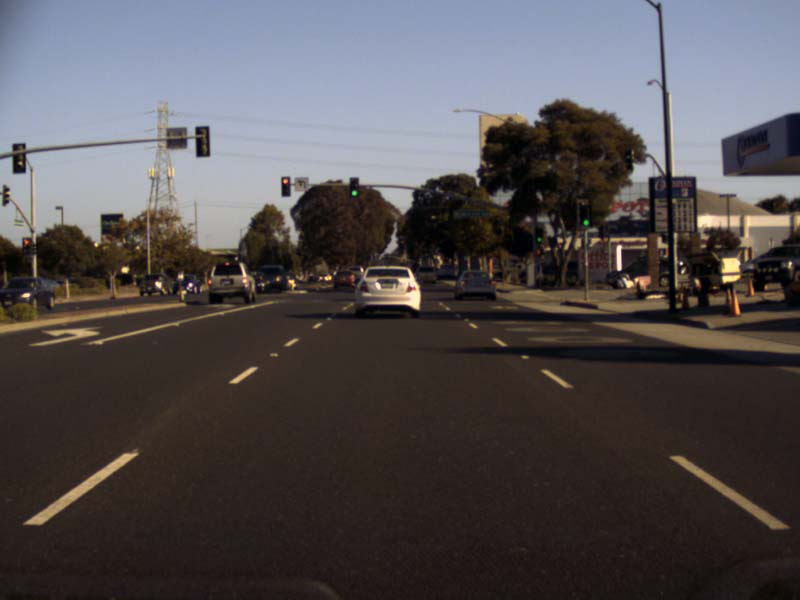Green: (579, 203, 592, 227), (349, 178, 358, 197), (534, 228, 542, 243)
Red: (281, 177, 289, 196)
